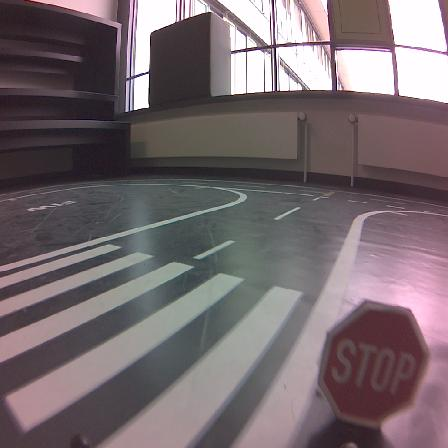STOP: (319, 301, 428, 426)
